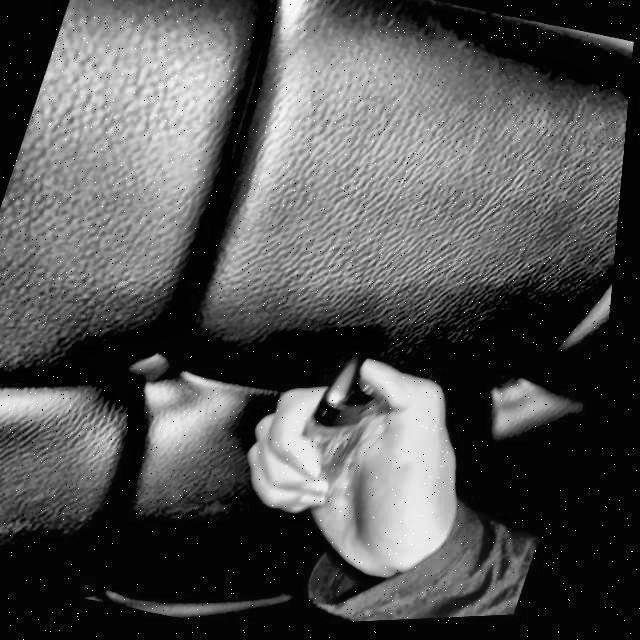Fire: (334, 367, 366, 412)
